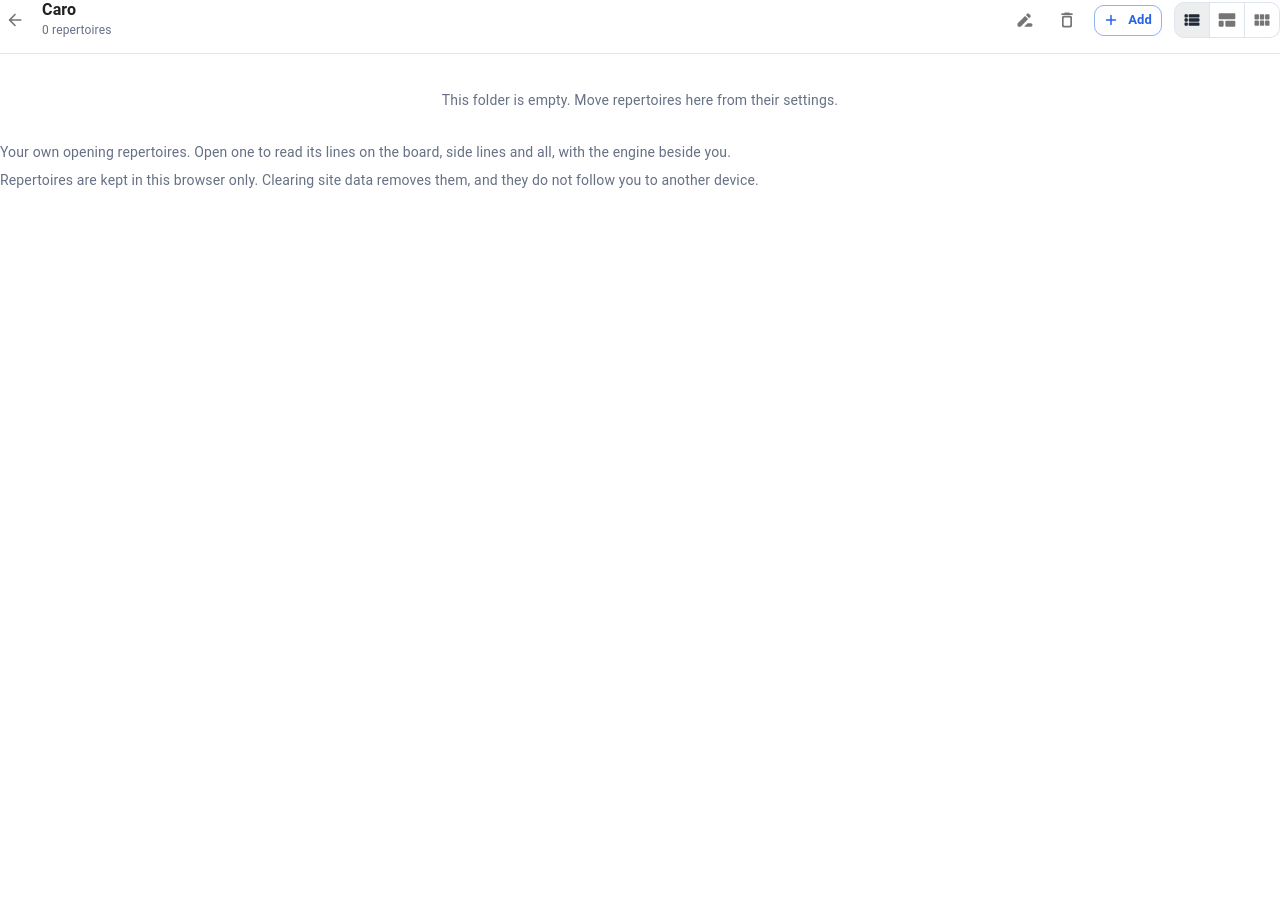
Test: repertoire folders on the list › renames a folder from inside it
Click the button with test id "repertoires-folder-rename" at (1025, 20), box top-left (1010, 5), bottom-right (1040, 35)
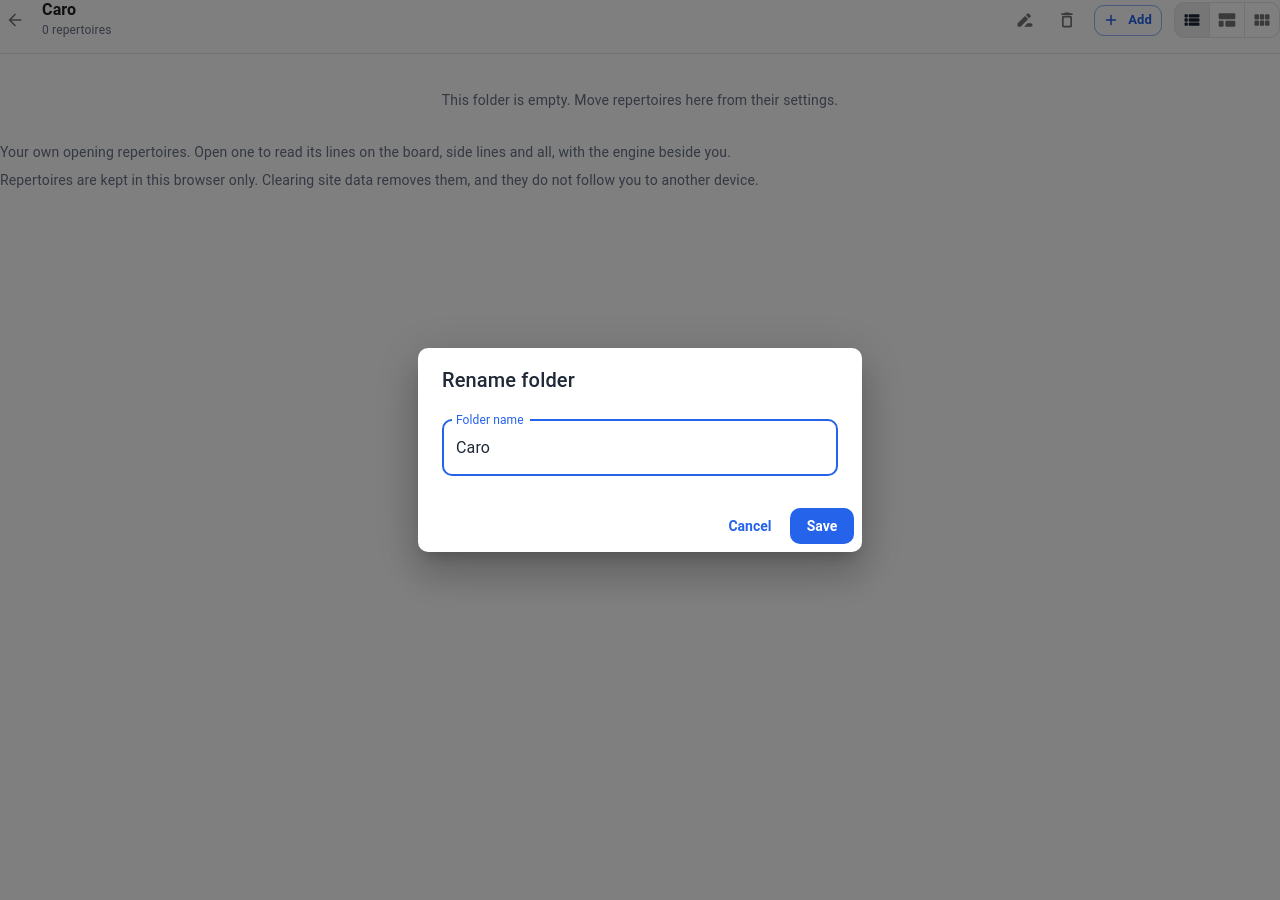
Now the field with test id "repertoire-folder-name-input" holds "Caro"
Replace the text in the field with test id "repertoire-folder-name-input" with "Caro-Kann" at (640, 448), box top-left (442, 420), bottom-right (838, 476)
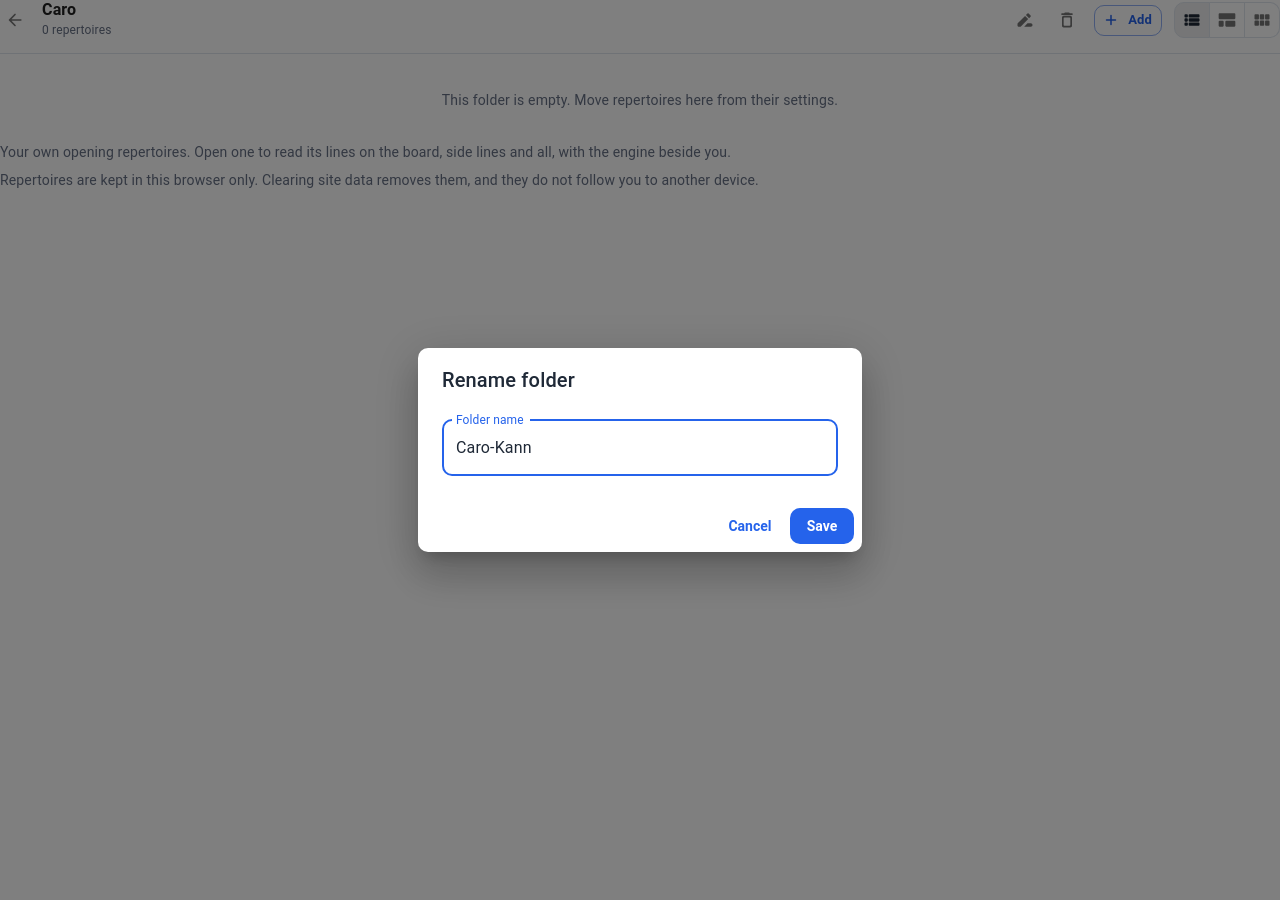
Click the button with test id "repertoire-folder-name-save" at (822, 526), box top-left (790, 508), bottom-right (854, 544)
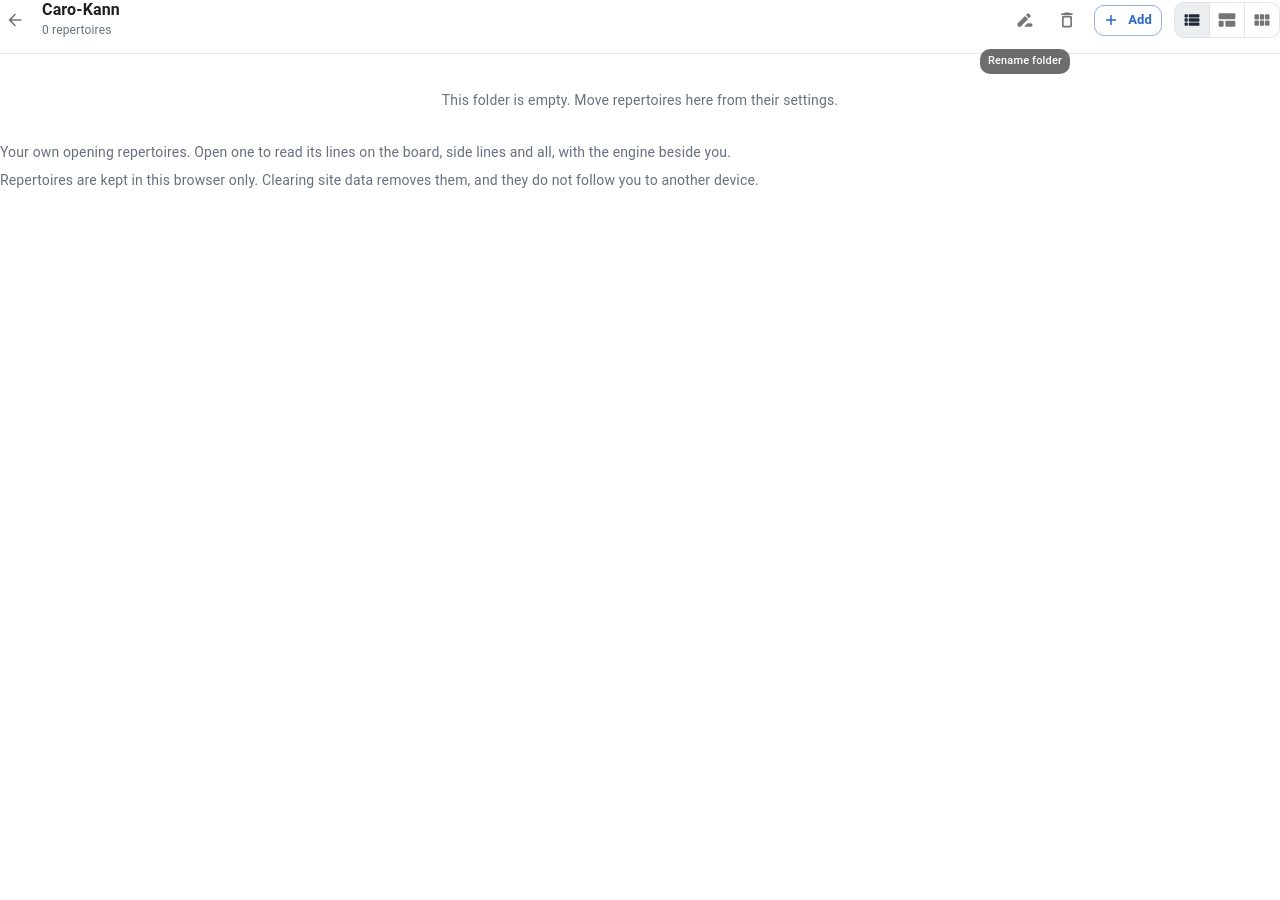
Now the heading with test id "repertoires-title" reads "Caro-Kann", box top-left (42, 0), bottom-right (120, 19)
